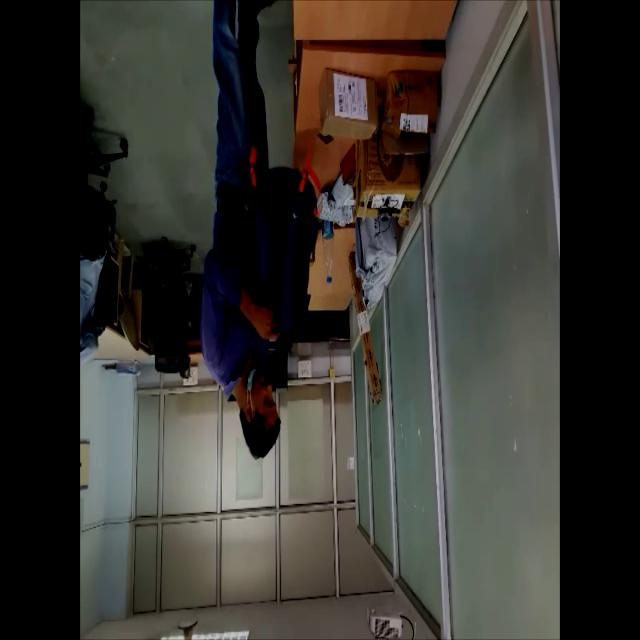shoplifting: (195, 0, 315, 462)
